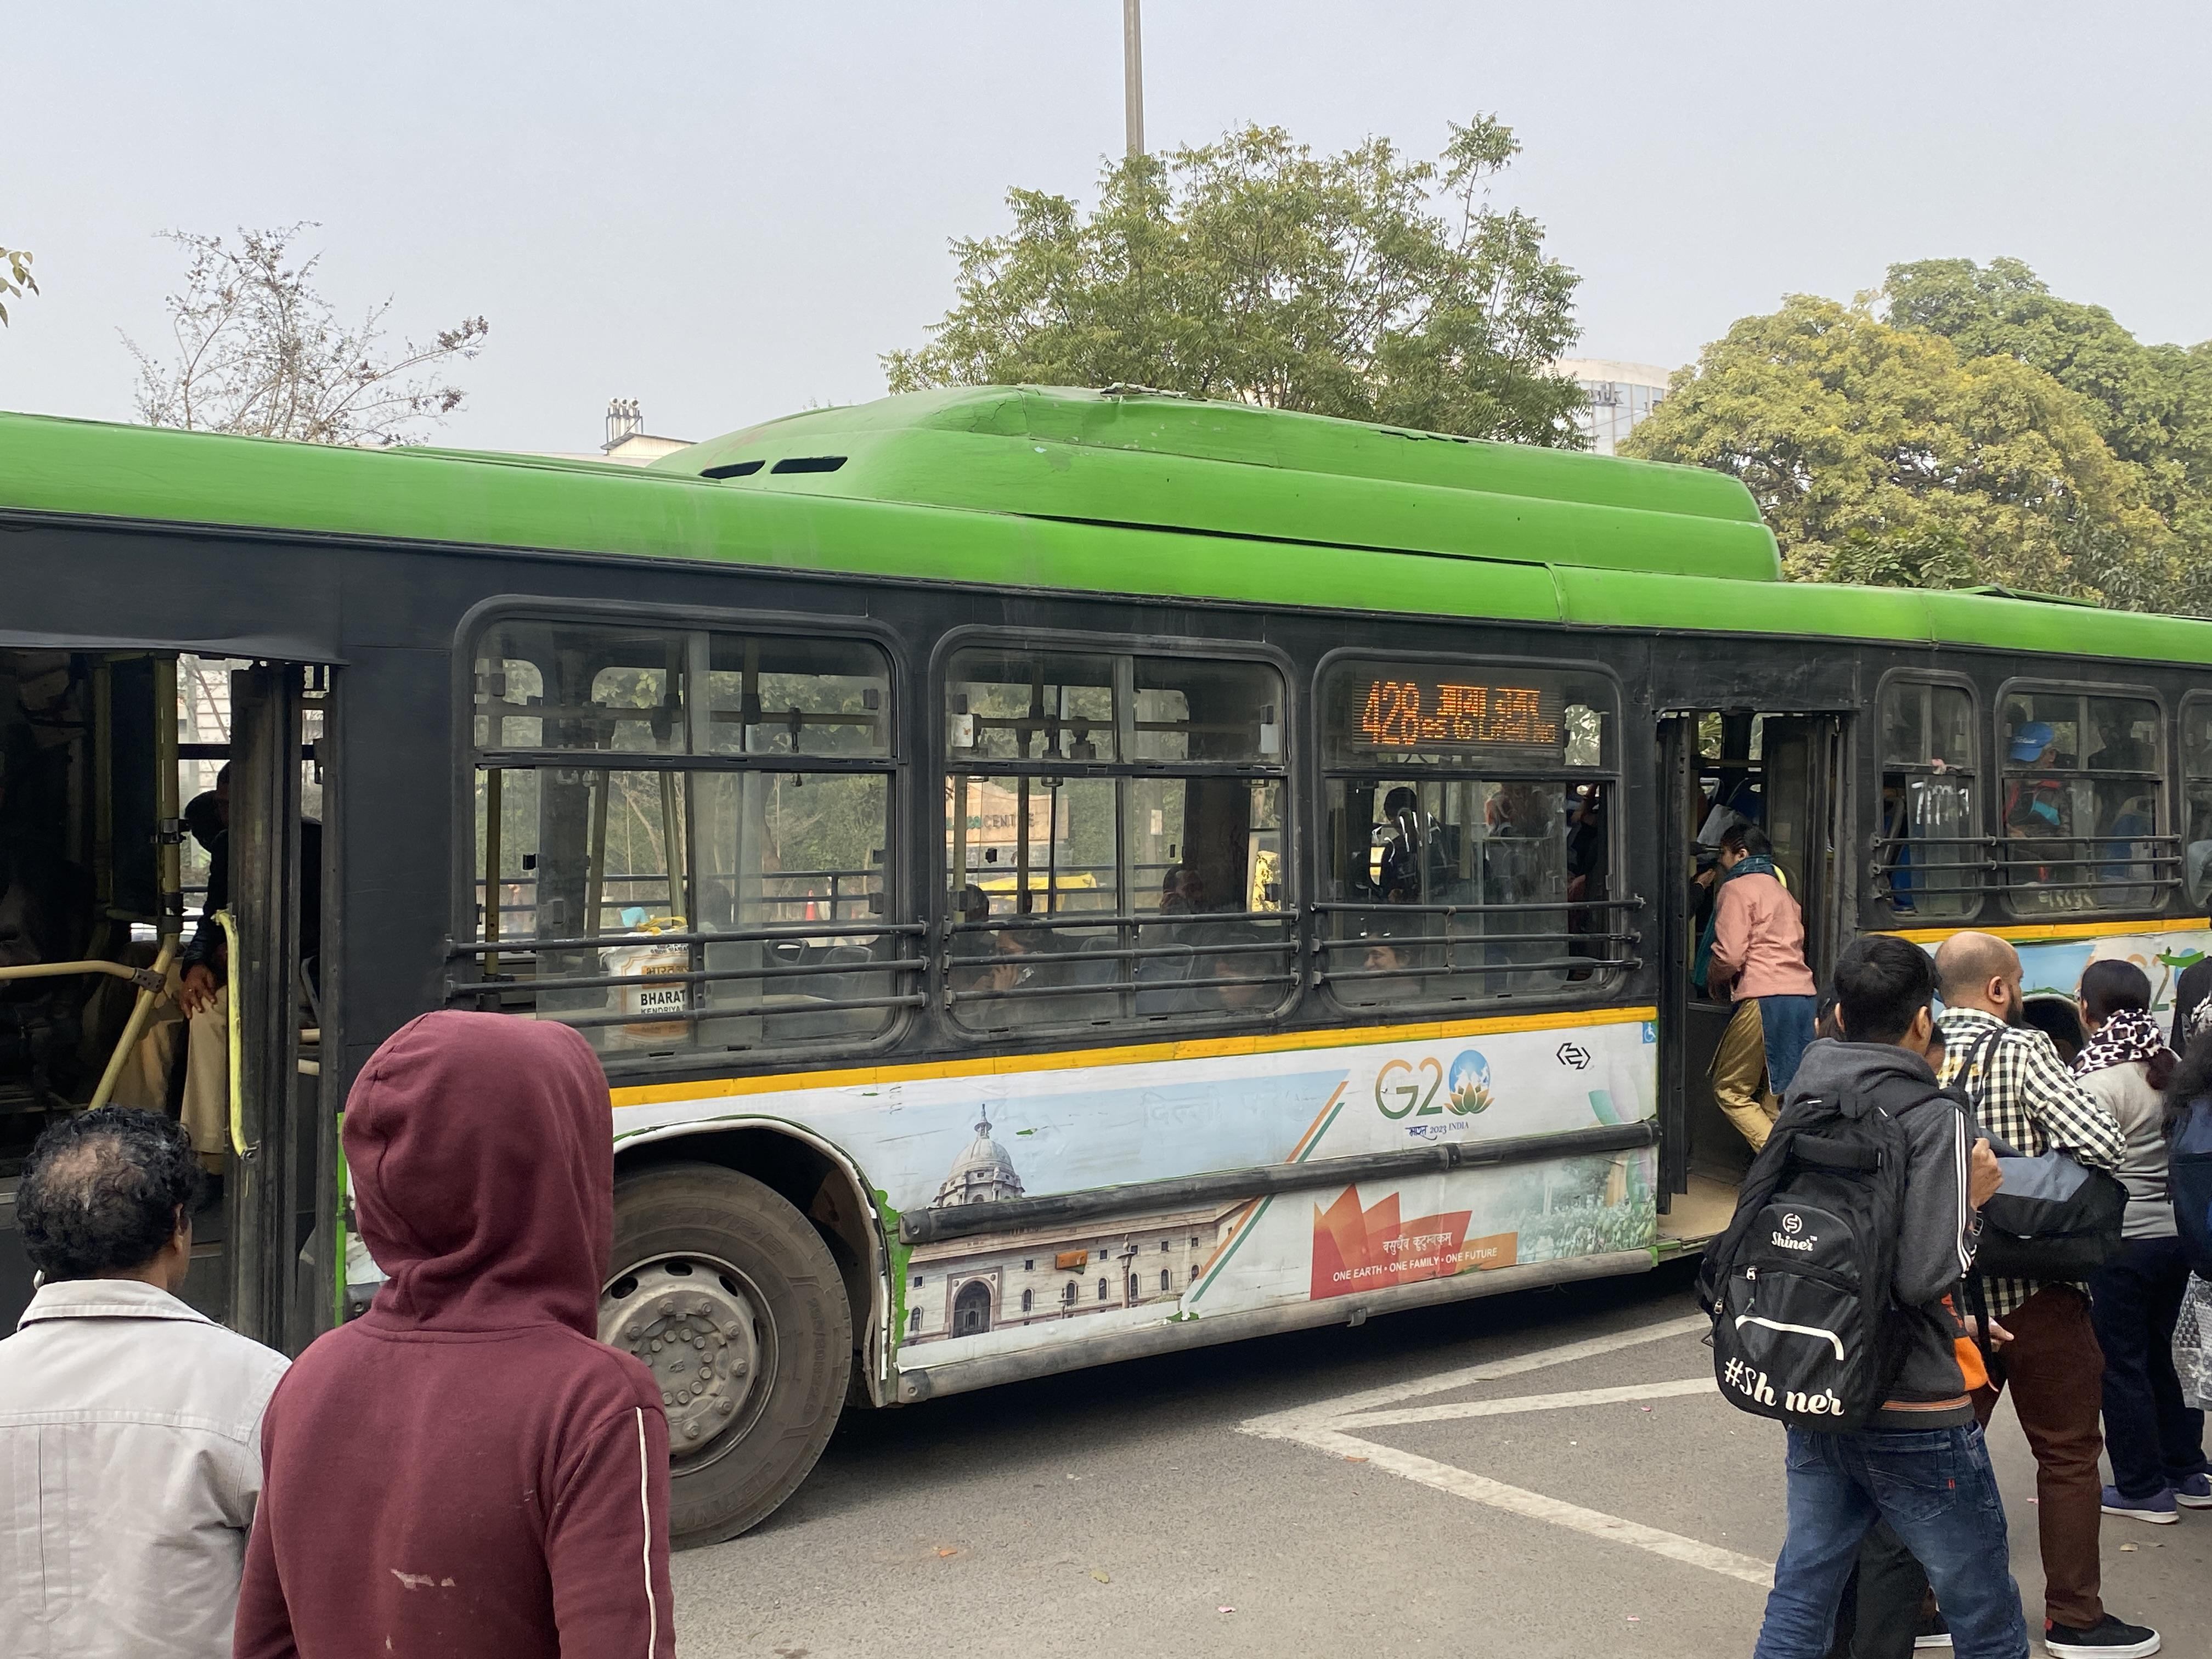Bus: (0, 396, 2212, 1471)
Display Board: (1332, 636, 1590, 789)
